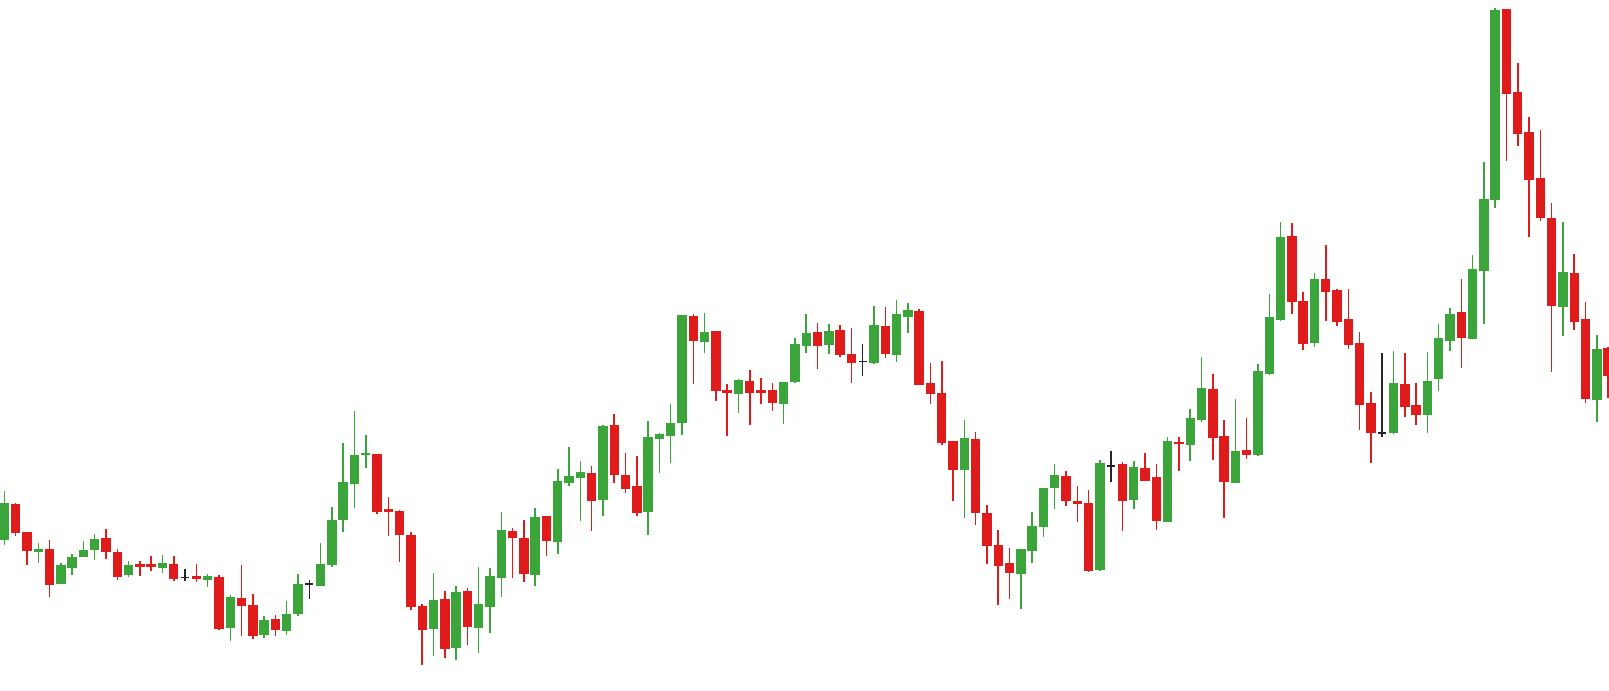buy: (248, 516, 442, 665), (576, 464, 655, 534)
